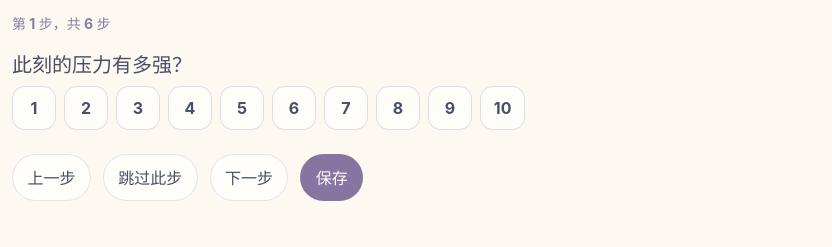
Test: EntryFlow › keeps existing choices and shows a prompt when a selection limit is exceeded
The image size is (832, 247).
Click the button "5".
click(242, 108)  # box [220, 86, 264, 130]
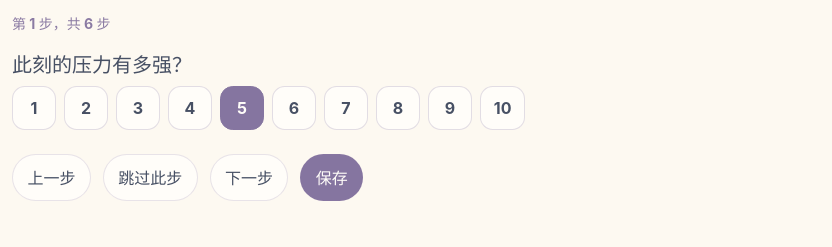
Click the button "下一步".
click(249, 178)  # box [210, 154, 288, 201]
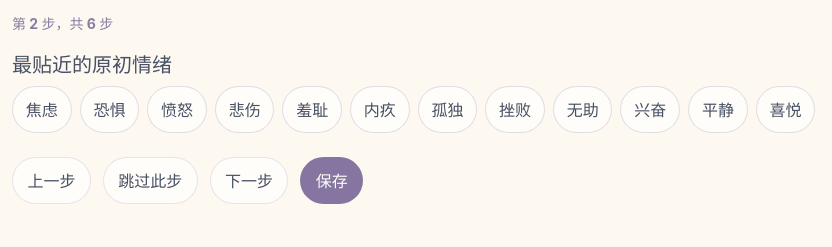
Click the button "焦虑".
click(42, 110)  # box [12, 86, 72, 133]
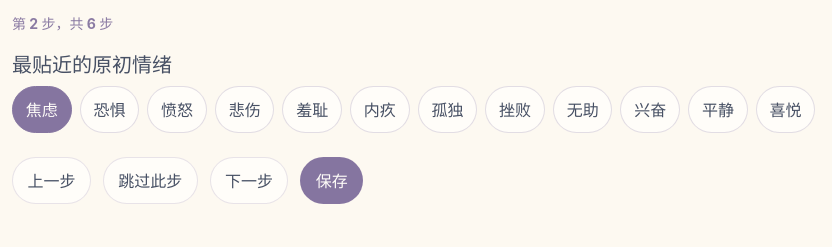
Click the button "恐惧".
click(109, 110)  # box [80, 86, 139, 133]
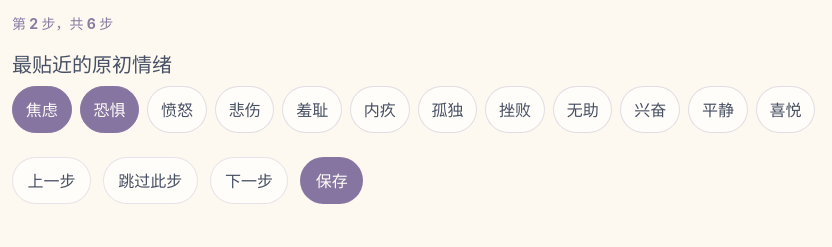
Click the button "愤怒".
click(177, 110)  # box [147, 86, 207, 133]
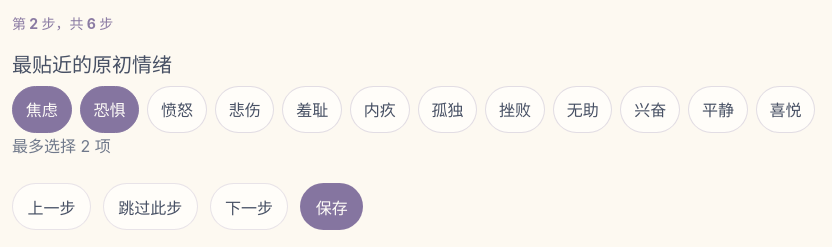
Now the text "最多选择 2 项" is shown, box [12, 136, 111, 156]
